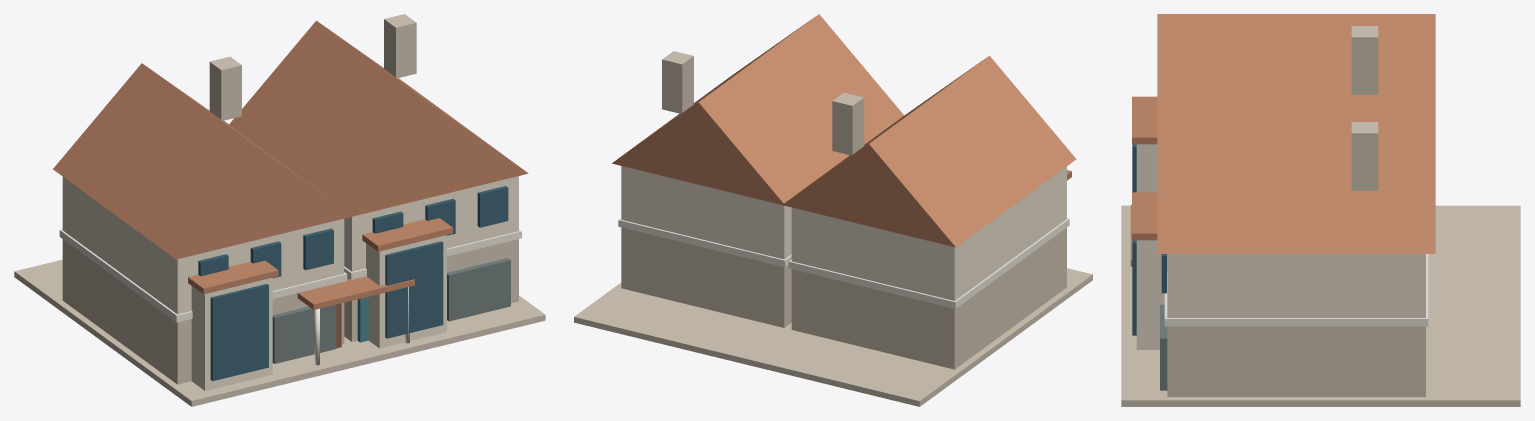
Rendered from townhouse_b.glb.
3 views of the same model, side by side, from view 1: azimuth 30°, elevation 25°; view 2: azimuth 150°, elevation 25°; view 3: azimuth 270°, elevation 25° (orthographic). The views are drawn at different scales.
Parts seen in each view (by area): view 1: townb_roof, townb_roof.001, townb_upper, townb_slab, townb_ground, townb_bay_glass, townb_upper.001, townb_bay_glass.001, townb_garage.001, townb_bay, townb_garage, townb_bay.001 (+15 smaller); view 2: townb_roof, townb_roof.001, townb_slab, townb_ground, townb_upper, townb_ground.001, townb_upper.001, townb_band, townb_chimney, townb_chimney.001, townb_band.001; view 3: townb_roof.001, townb_slab, townb_roof, townb_ground.001, townb_upper.001, townb_bay.001, townb_band.001, townb_chimney, townb_chimney.001, townb_bay_roof.001, townb_bay_roof, townb_bay (+2 smaller).
Boxes of the visible parts, x1,y1,x2,y2 form: townb_roof: [53, 63, 353, 259]; townb_roof.001: [229, 20, 528, 215]; townb_upper: [62, 177, 344, 314]; townb_slab: [14, 259, 545, 406]; townb_ground: [62, 239, 344, 384]; townb_bay_glass: [210, 284, 268, 381]; townb_upper.001: [344, 176, 518, 271]; townb_bay_glass.001: [385, 241, 443, 338]; townb_garage.001: [447, 258, 510, 321]; townb_bay: [191, 277, 272, 390]; townb_garage: [272, 304, 336, 363]; townb_bay.001: [366, 235, 446, 348]; townb_roof: [782, 56, 1076, 247]; townb_roof.001: [612, 14, 903, 205]; townb_slab: [574, 268, 1092, 406]; townb_ground: [791, 227, 1066, 369]; townb_upper: [791, 166, 1066, 300]; townb_ground.001: [621, 227, 791, 327]; townb_upper.001: [621, 166, 791, 259]; townb_band: [788, 218, 1069, 308]; townb_chimney: [832, 92, 864, 155]; townb_chimney.001: [662, 51, 693, 113]; townb_band.001: [618, 218, 791, 267]; townb_roof.001: [1157, 110, 1435, 253]; townb_slab: [1121, 205, 1520, 406]; townb_roof: [1157, 14, 1435, 109]; townb_ground.001: [1167, 326, 1425, 396]; townb_upper.001: [1167, 254, 1425, 317]; townb_bay.001: [1136, 240, 1167, 349]; townb_band.001: [1164, 254, 1428, 326]; townb_chimney: [1351, 26, 1378, 94]; townb_chimney.001: [1351, 122, 1378, 190]; townb_bay_roof.001: [1132, 192, 1157, 240]; townb_bay_roof: [1132, 96, 1157, 144]; townb_bay: [1136, 144, 1157, 192].
Bounding box in the file's own units: 18.87 × 11.7 × 16.37.
